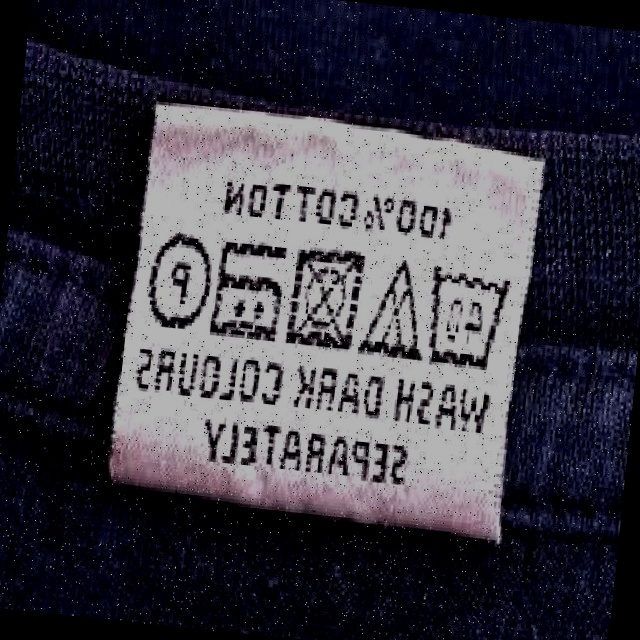40C: (419, 259, 515, 373)
DN_bleach: (360, 256, 431, 362)
DN_tumble_dry: (281, 241, 367, 351)
dry_clean_any_solvent_except_trichloroethylene: (144, 226, 216, 337)
iron_medium: (205, 235, 292, 345)
